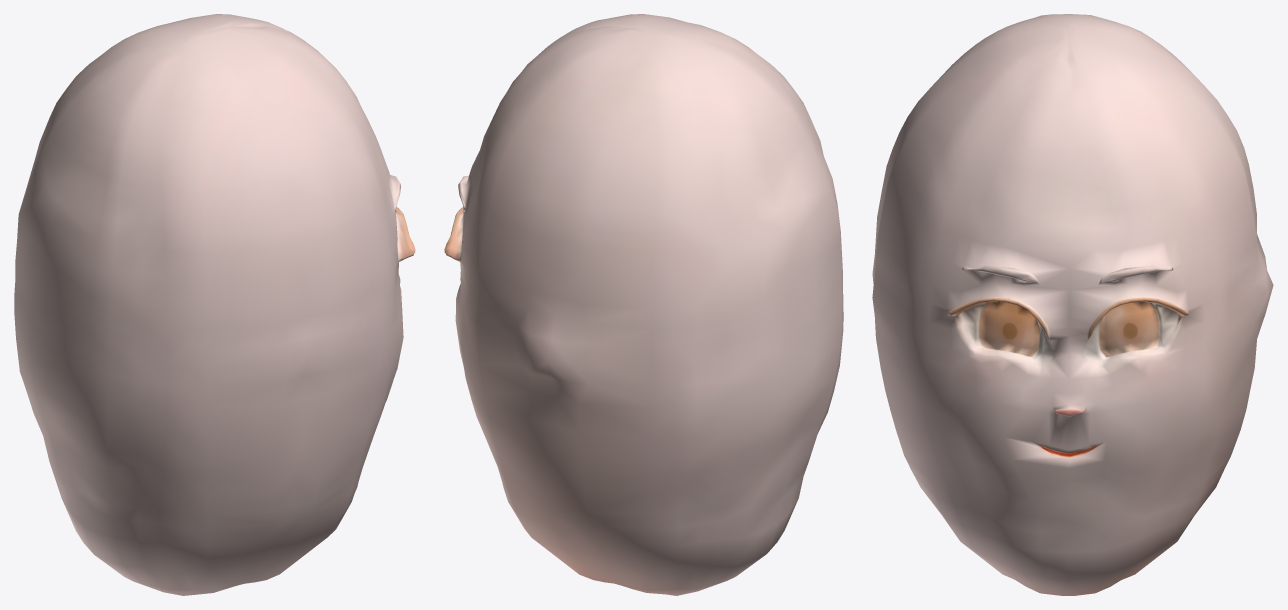
3 views of the same model, side by side, from view 1: azimuth 30°, elevation 25°; view 2: azimuth 150°, elevation 25°; view 3: azimuth 270°, elevation 25° (orthographic).
Parts seen in each view (by area): view 1: tripo_node_3c135feb-83f8-40db-a167-bfc608fc6dfb; view 2: tripo_node_3c135feb-83f8-40db-a167-bfc608fc6dfb; view 3: tripo_node_3c135feb-83f8-40db-a167-bfc608fc6dfb.
Part boxes in pixels (x1=…): tripo_node_3c135feb-83f8-40db-a167-bfc608fc6dfb: x1=14, y1=14, x2=415, y2=595; tripo_node_3c135feb-83f8-40db-a167-bfc608fc6dfb: x1=444, y1=14, x2=843, y2=595; tripo_node_3c135feb-83f8-40db-a167-bfc608fc6dfb: x1=872, y1=14, x2=1273, y2=595.
Size of the model in its own units: 0.6321 by 1 by 0.6693.
1 material, 1 textured.
